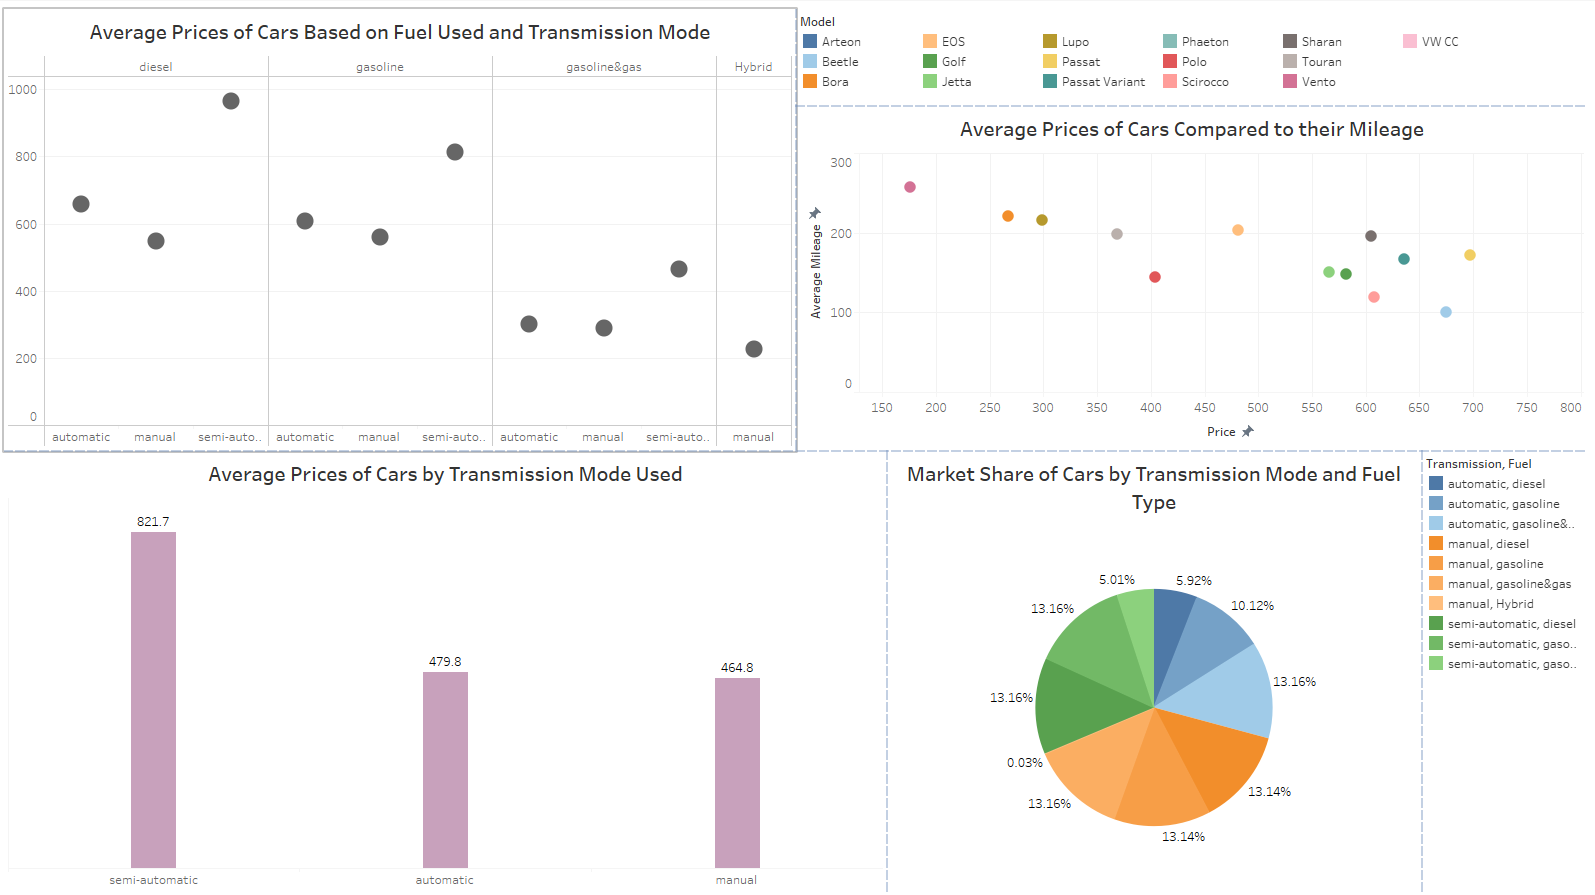

The page's visual inventory and layout, read from the dashboard file:
{"tool":"tableau","page":{"name":"Dashboard 3","canvas":[1700,900],"ordinal":2},"visuals":[{"type":"worksheet","title":"Average Prices of Cars Based on Fuel Used and Transmission Mode","mark":"Shape","rows":["price - Split 1"],"cols":["fuel","transmission"],"box":[8,8,842,442]},{"type":"legend","title":"Average Prices of Cars Compared to their Mileage","param":"[federated.01cf0cm1d8unv31a5b50j0ibfsof].[none:model:nk]","box":[850,8,842,97]},{"type":"worksheet","title":"Average Prices of Cars Compared to their Mileage","mark":"Shape","rows":["kilometer"],"cols":["price - Split 1"],"box":[850,105,842,345]},{"type":"worksheet","title":"Average Prices of Cars by Transmission Mode Used","mark":"Bar","rows":["price - Split 1"],"cols":["transmission"],"box":[8,450,939,442]},{"type":"worksheet","title":"Market Share of Cars by Transmission Mode","mark":"Pie","box":[947,450,568.1,442]},{"type":"legend","title":"Market Share of Cars by Transmission Mode","param":"[federated.01cf0cm1d8unv31a5b50j0ibfsof].[none:transmission:nk]\n[federated.01cf0","box":[1515.1,450,176.9,442]}]}

Visuals, with their boxes on the page's 1700x900 design canvas (x1, y1, x2, y2). These are canvas units, not pixel positions in the 1595x895 screenshot, which may show the page scaled, cropped or inside an application window:
"Average Prices of Cars Based on Fuel Used and Transmission Mode" worksheet (Shape marks): <region>8, 8, 850, 450</region>
"Average Prices of Cars Compared to their Mileage" legend: <region>850, 8, 1692, 105</region>
"Average Prices of Cars Compared to their Mileage" worksheet (Shape marks): <region>850, 105, 1692, 450</region>
"Average Prices of Cars by Transmission Mode Used" worksheet (Bar marks): <region>8, 450, 947, 892</region>
"Market Share of Cars by Transmission Mode" worksheet (Pie marks): <region>947, 450, 1515, 892</region>
"Market Share of Cars by Transmission Mode" legend: <region>1515, 450, 1692, 892</region>
